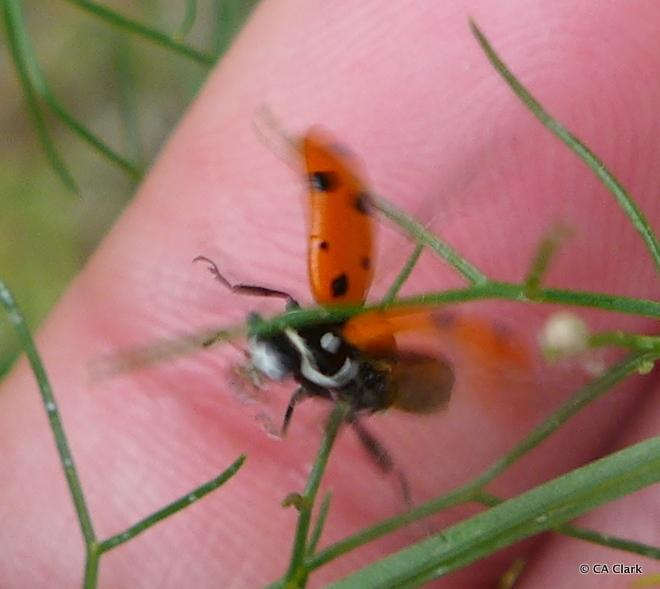ladybug: (189, 121, 541, 509)
